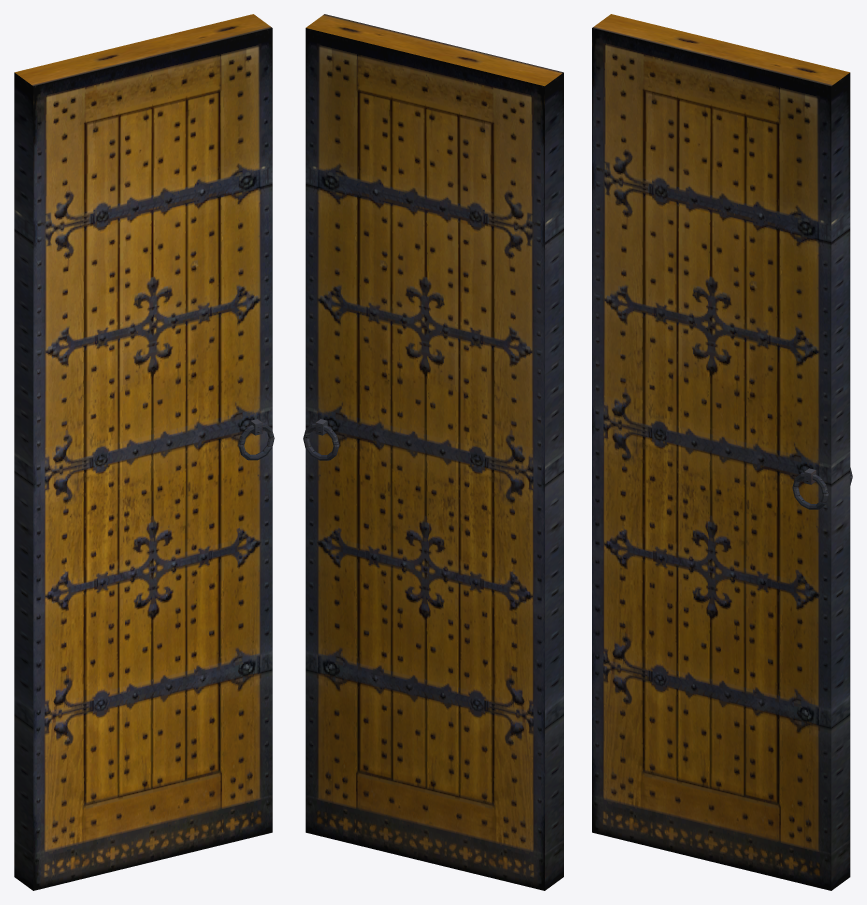
The model's file is svspartadoor3.dae.
3 renders of one model, left to right at view 1: azimuth 30°, elevation 25°; view 2: azimuth 150°, elevation 25°; view 3: azimuth 330°, elevation 25°, orthographic.
Parts seen in each view (by area): view 1: unnamed_object34_sep57-0; view 2: unnamed_object34_sep57-0; view 3: unnamed_object34_sep57-0.
Part boxes in pixels (bbox=[...]): unnamed_object34_sep57-0: bbox=[14, 14, 274, 890]; unnamed_object34_sep57-0: bbox=[303, 14, 563, 890]; unnamed_object34_sep57-0: bbox=[592, 14, 852, 890].
Size of the model in its own units: 160 by 515 by 33.6.
